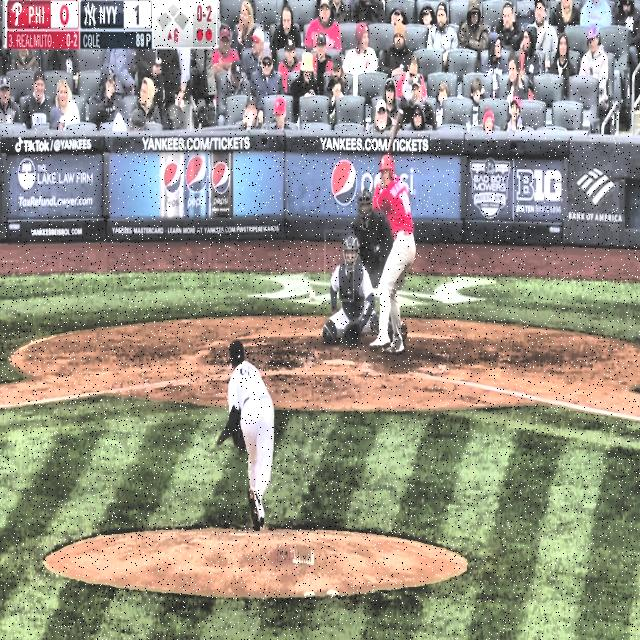baseball: (310, 290, 316, 300)
